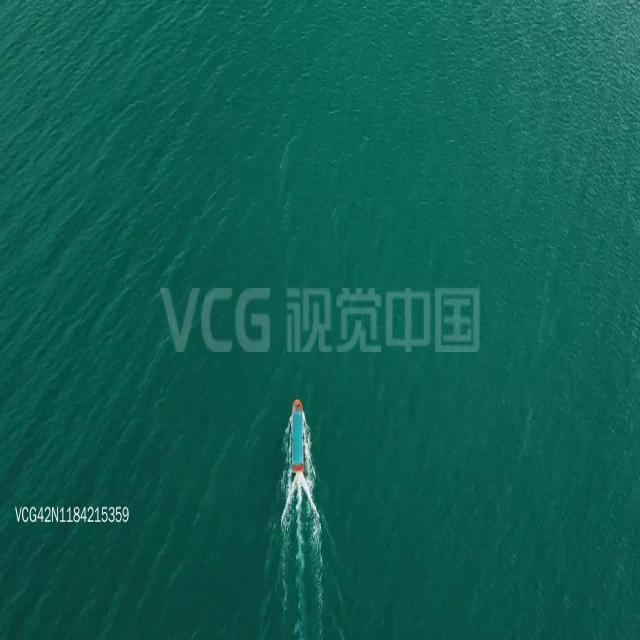houseboat: (282, 391, 312, 486)
